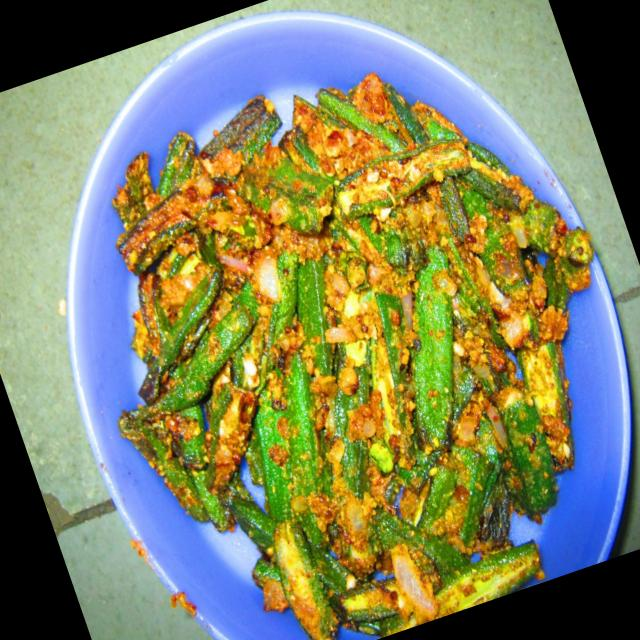BhindiMasala: (27, 5, 640, 640)
